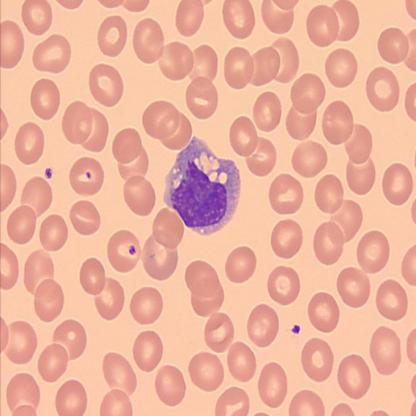Monocyte: (162, 134, 242, 237)
